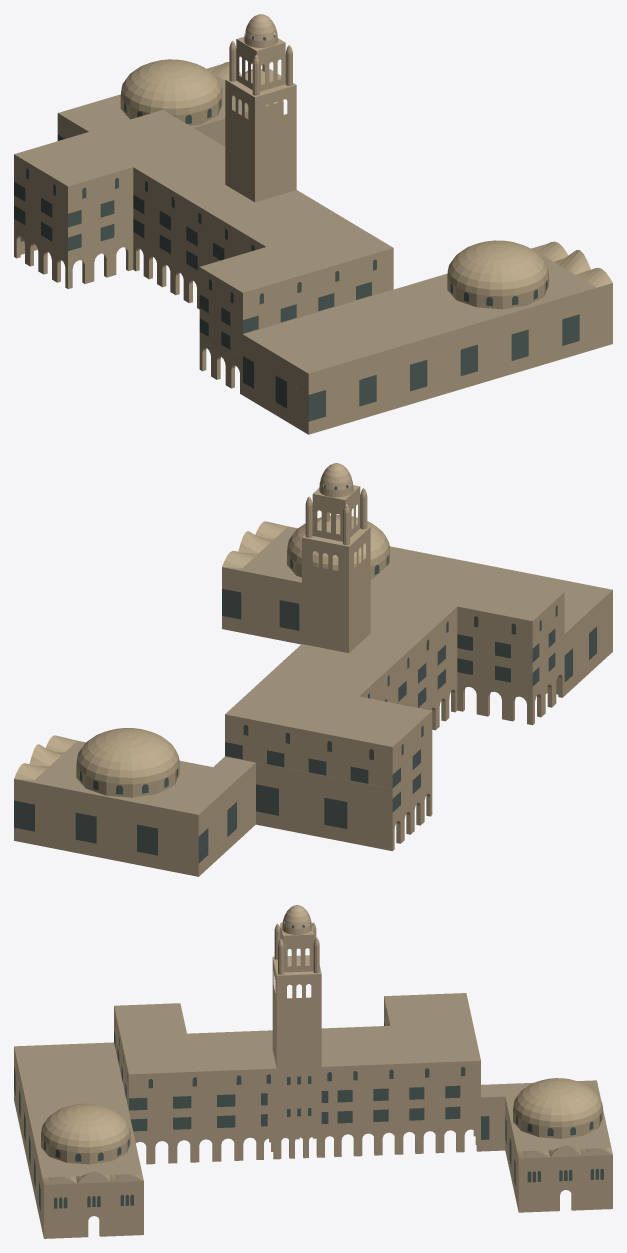
File: jerusalem-ymca-far.glb
The picture shows the model from 3 angles, top to bottom: view 1: azimuth 30°, elevation 25°; view 2: azimuth 150°, elevation 25°; view 3: azimuth 270°, elevation 25°; orthographic projection. The views are drawn at different scales.
Parts seen in each view (by area): view 1: jerusalem-ymca-0-stone, jerusalem-ymca-0-roof, jerusalem-ymca-0-dome, jerusalem-ymca-0-glass; view 2: jerusalem-ymca-0-stone, jerusalem-ymca-0-roof, jerusalem-ymca-0-dome, jerusalem-ymca-0-glass; view 3: jerusalem-ymca-0-stone, jerusalem-ymca-0-roof, jerusalem-ymca-0-dome, jerusalem-ymca-0-glass, jerusalem-ymca-0-rim.
Boxes of the visible parts, x1,y1,x2,y2 form: jerusalem-ymca-0-stone: (14,14,612,434); jerusalem-ymca-0-roof: (14,64,596,373); jerusalem-ymca-0-dome: (120,59,612,309); jerusalem-ymca-0-glass: (14,33,579,421); jerusalem-ymca-0-stone: (14,463,612,876); jerusalem-ymca-0-roof: (17,526,612,814); jerusalem-ymca-0-dome: (14,515,389,797); jerusalem-ymca-0-glass: (14,484,596,863); jerusalem-ymca-0-stone: (14,905,612,1238); jerusalem-ymca-0-roof: (14,993,612,1182); jerusalem-ymca-0-dome: (41,1078,612,1184); jerusalem-ymca-0-glass: (14,922,603,1210); jerusalem-ymca-0-rim: (44,1145,612,1184).
Size of the model in its own units: 63.47 by 46.33 by 104.
